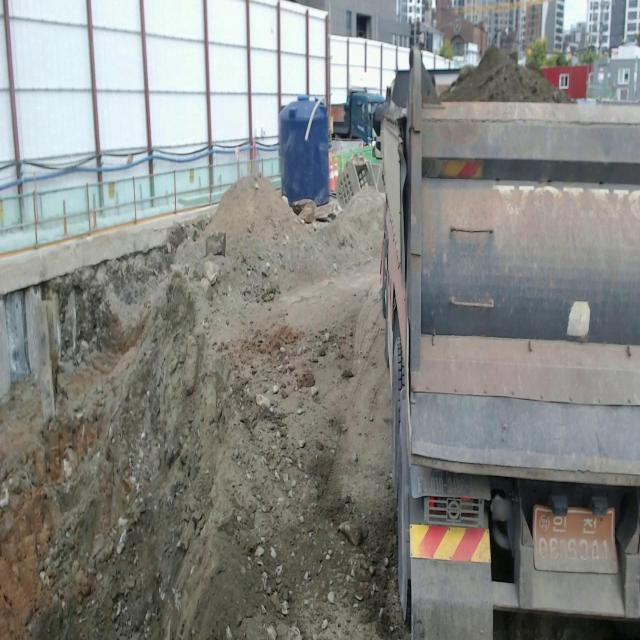white-sand: (0, 180, 404, 639)
